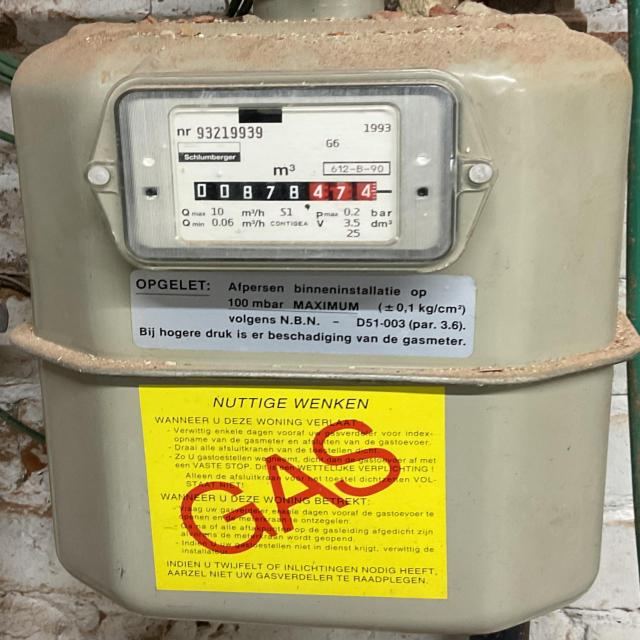gaz_meter: (169, 102, 400, 253)
indication: (187, 177, 379, 206)
